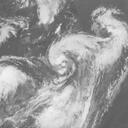cyclone: (48, 31, 90, 71)
